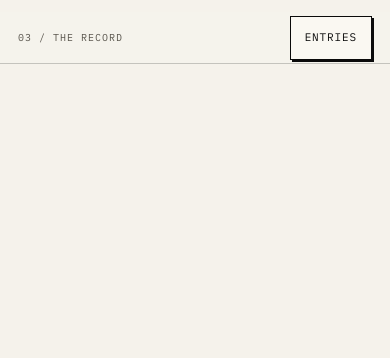
Test case: MobileStoryNav › shows every entry and marks the active entry after opening the panel
Click the button "Entries": x=331, y=38 [290,16,372,60]
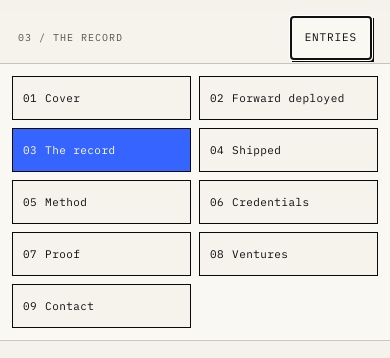
Result: the button "01 Cover" is shown at [12,76,191,120]
Result: the button "02 Forward deployed" is shown at [199,76,378,120]
Result: the button "03 The record" is shown at [12,128,191,172]
